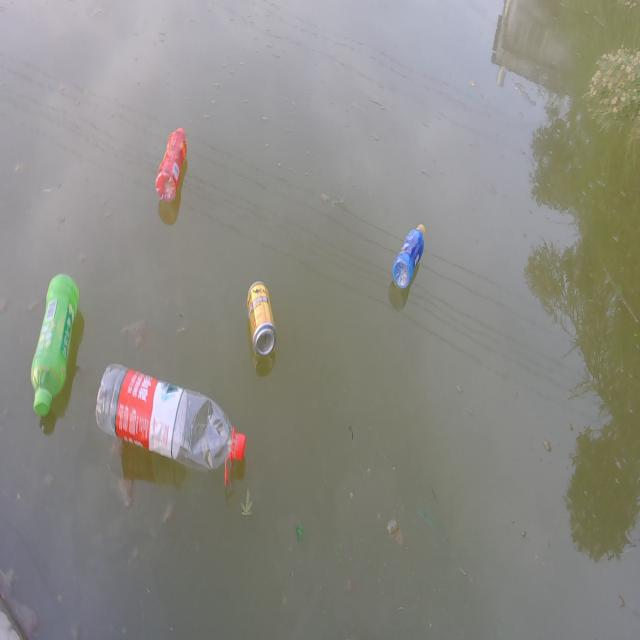Bottle: (93, 360, 249, 486), (25, 269, 82, 424), (390, 218, 434, 298), (155, 120, 189, 210)
Can: (245, 276, 282, 355)
